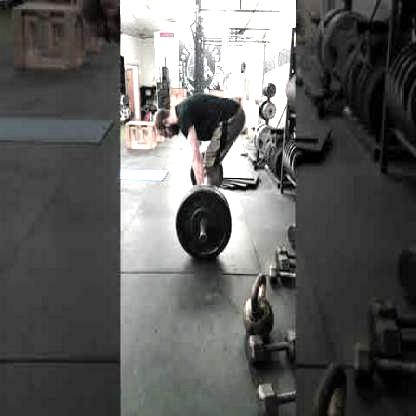Barbell: (196, 231, 205, 244)
